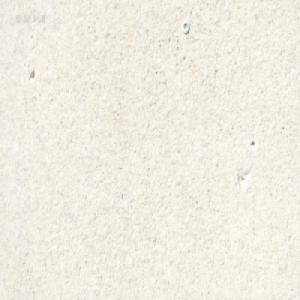Washer: (181, 20, 189, 34)
